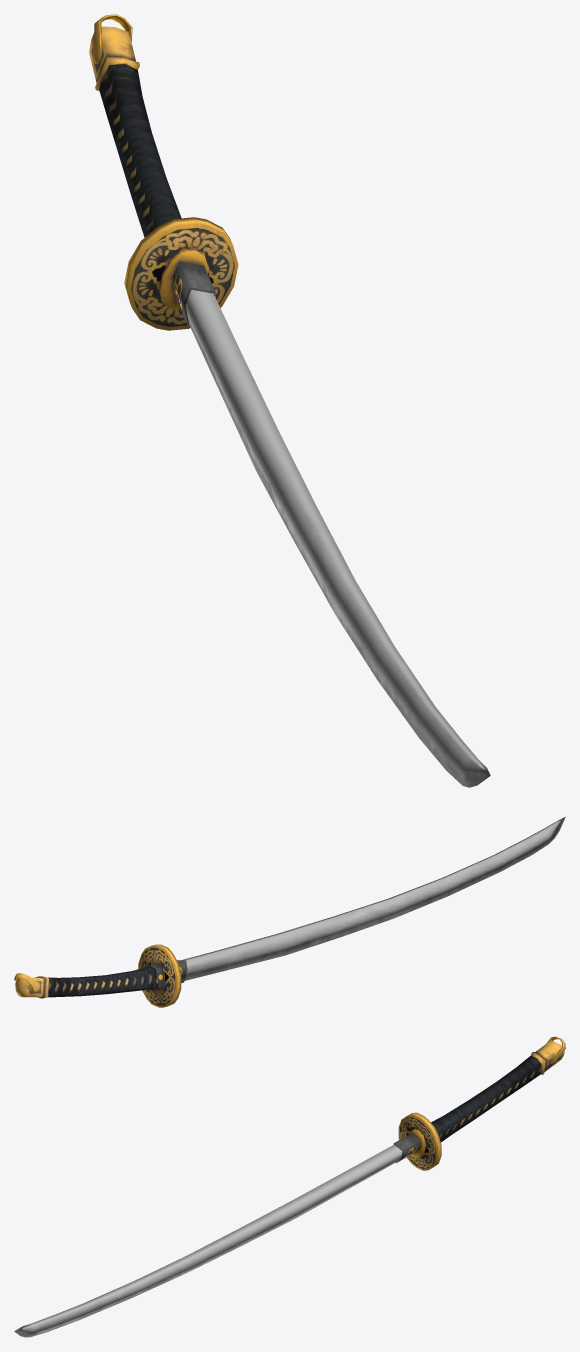
File: weapon-base.glb
The picture shows the model from 3 angles, top to bottom: view 1: azimuth 30°, elevation 25°; view 2: azimuth 150°, elevation 25°; view 3: azimuth 330°, elevation 25°; orthographic projection. The views are drawn at different scales.
Bounding box in the file's own units: 0.5142 × 0.2436 × 1.78.
1 material, 1 textured.
